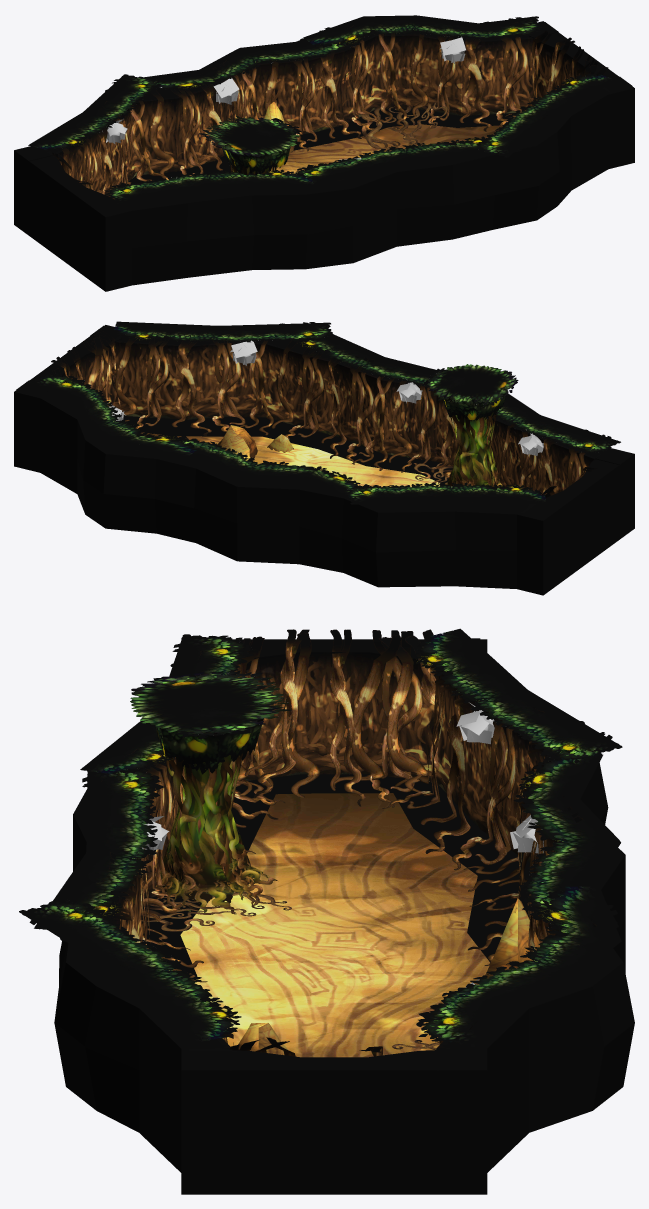
Rendered from Dungeon_021_Road_002_Item2.fbx.
3 views of the same model, one above another, from view 1: azimuth 30°, elevation 25°; view 2: azimuth 150°, elevation 25°; view 3: azimuth 270°, elevation 25° (orthographic). The views are drawn at different scales.
Visible parts, largest first — view 1: Dan1, Dungeon_021_Tsuta_002, Dungeon_021_Tsuta_001, un_021_Door_002 (×2), Dungeon_021_Object_010, Dan2, Dan1_shadow, un_021_Door_002_Object1, Dungeon_021_Tsuta_003, Dungeon_102_OB01_Seed (5), Dungeon_102_OB01_Seed (3); view 2: Dan1, Dungeon_021_Tsuta_002, Dungeon_021_Tsuta_001, un_021_Door_002 (×2), Dan1_shadow, Dungeon_021_Object_010, Dan2, Dungeon_021_Object_011, un_021_Door_002_Object1, Dungeon_011_Object_012, Dungeon_102_OB01_Seed (1), Dungeon_102_OB01_Seed (+1 smaller); view 3: Dan1, Dan2, Dungeon_021_Tsuta_002, un_021_Door_002 (×2), un_021_Door_002_Object1, Dungeon_021_Tsuta_001, Dungeon_021_Object_010, Dungeon_021_Object_011, Dan1_shadow, Dungeon_011_Object_011, Dungeon_021_Tsuta_003, Dun_011_Door_002_shadow (+2 smaller).
Part boxes in pixels (x1,y1,x2,y2): Dan1: (14,21,634,291); Dungeon_021_Tsuta_002: (28,15,616,204); Dungeon_021_Tsuta_001: (61,22,547,199); un_021_Door_002 (×2): (16,22,632,280); Dungeon_021_Object_010: (199,116,301,175); Dan2: (270,124,501,173); Dan1_shadow: (128,108,515,183); un_021_Door_002_Object1: (505,30,608,118); Dungeon_021_Tsuta_003: (361,102,447,151); Dungeon_102_OB01_Seed (5): (440,37,465,63); Dungeon_102_OB01_Seed (3): (213,78,239,104); Dan1: (14,325,634,595); Dungeon_021_Tsuta_002: (26,321,620,505); Dungeon_021_Tsuta_001: (50,328,594,496); un_021_Door_002 (×2): (16,325,632,583); Dan1_shadow: (123,416,452,482); Dungeon_021_Object_010: (423,364,518,421); Dan2: (140,432,439,487); Dungeon_021_Object_011: (445,412,502,487); un_021_Door_002_Object1: (49,329,129,421); Dungeon_011_Object_012: (217,425,257,460); Dungeon_102_OB01_Seed (1): (230,340,257,365); Dungeon_102_OB01_Seed: (518,429,543,456); Dan1: (54,639,634,1194); Dan2: (180,793,489,1057); Dungeon_021_Tsuta_002: (19,628,622,1047); un_021_Door_002 (×2): (188,638,480,1194); un_021_Door_002_Object1: (230,629,446,807); Dungeon_021_Tsuta_001: (100,650,596,1045); Dungeon_021_Object_010: (130,671,291,774); Dungeon_021_Object_011: (152,730,277,913); Dan1_shadow: (141,776,530,979); Dungeon_011_Object_011: (485,898,539,978); Dungeon_021_Tsuta_003: (141,891,440,1049); Dun_011_Door_002_shadow: (276,774,392,794).
Size of what is drawn, in the model's own units: 15 by 3.03 by 9.14.
